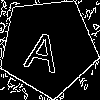A: (23, 21, 65, 73)
